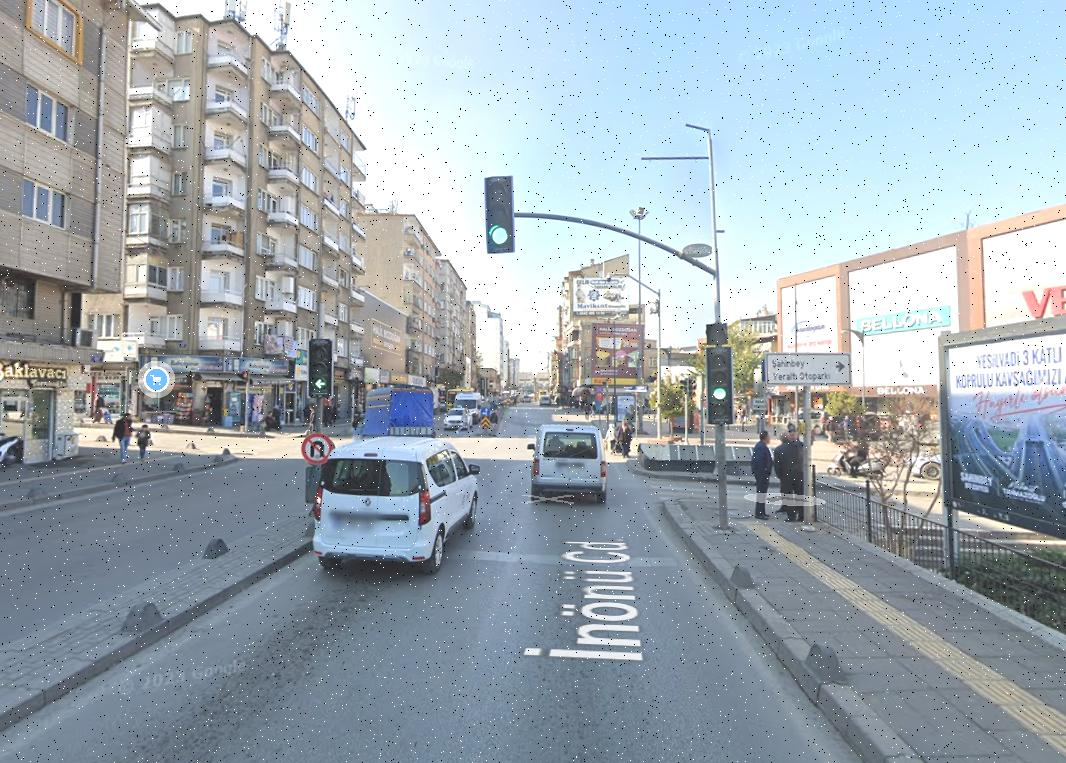greenlight: (487, 178, 514, 246), (308, 339, 334, 391), (708, 349, 730, 401)
